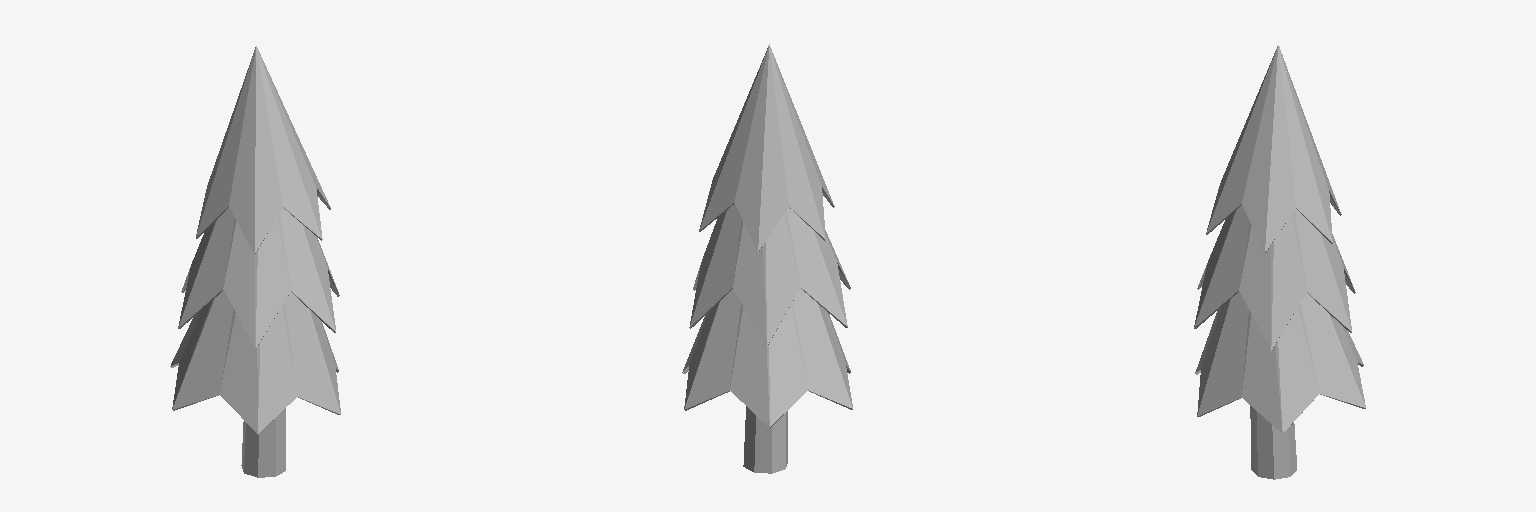
The model's file is tree_lvl_9.obj.
3 views of the same model, side by side, from view 1: azimuth 30°, elevation 25°; view 2: azimuth 150°, elevation 25°; view 3: azimuth 270°, elevation 25° (orthographic).
Bounding box in the file's own units: 2.48 × 5.93 × 2.19.